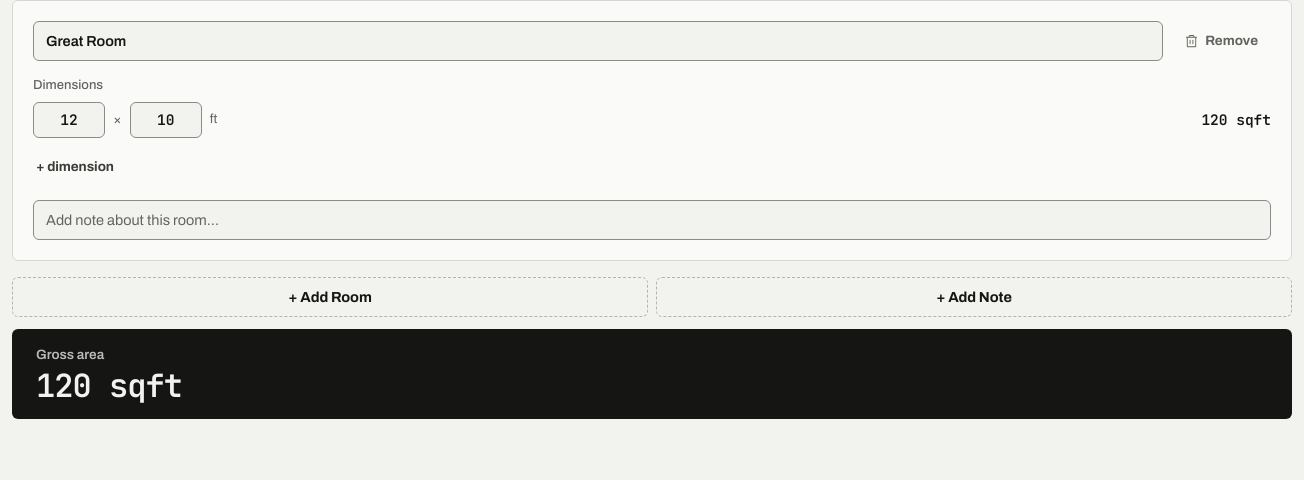
Test: RoomSection › adds a dimension box and sums it into the room total
// Add a second box.
Click the button "+ dimension".
click(75, 167)  # box [23,150,127,184]
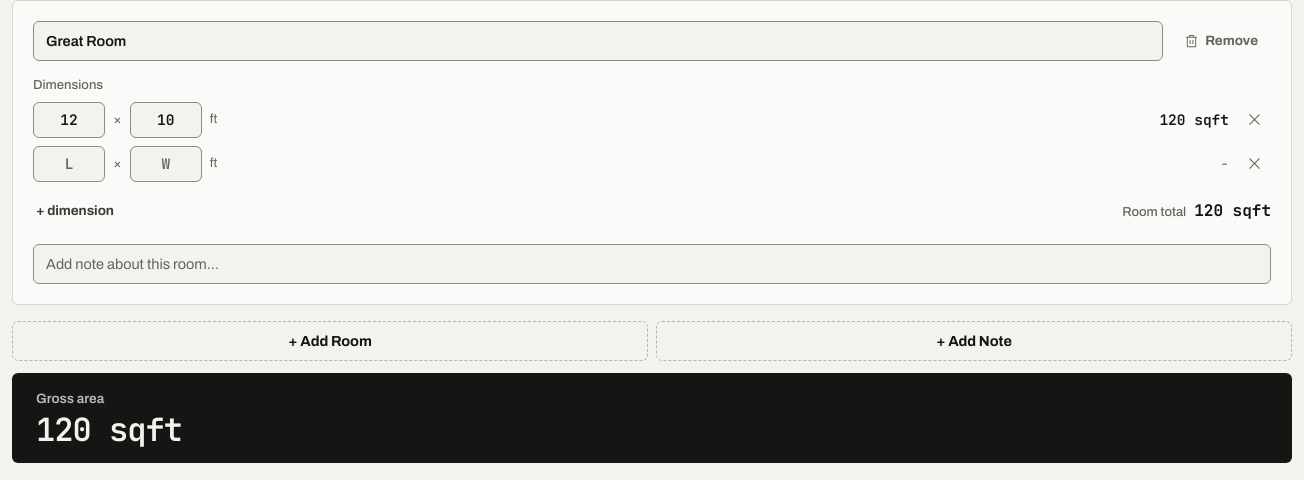
Type "4" into the field with placeholder "L".
click(69, 164); type("4")  # box [33,146,105,182]
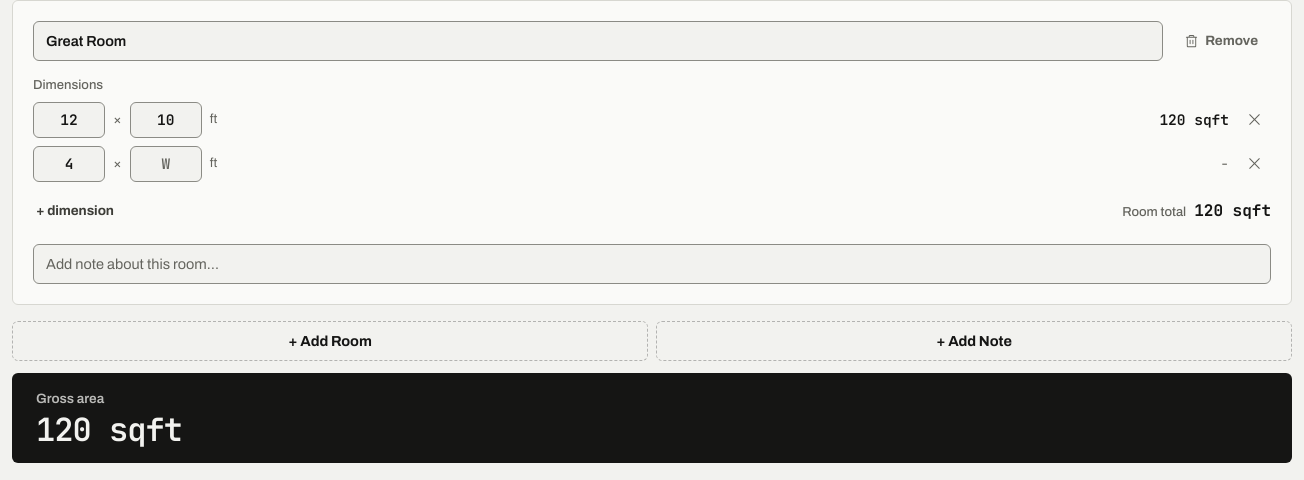
Type "3" into the field with placeholder "W".
click(166, 164); type("3")  # box [130,146,202,182]
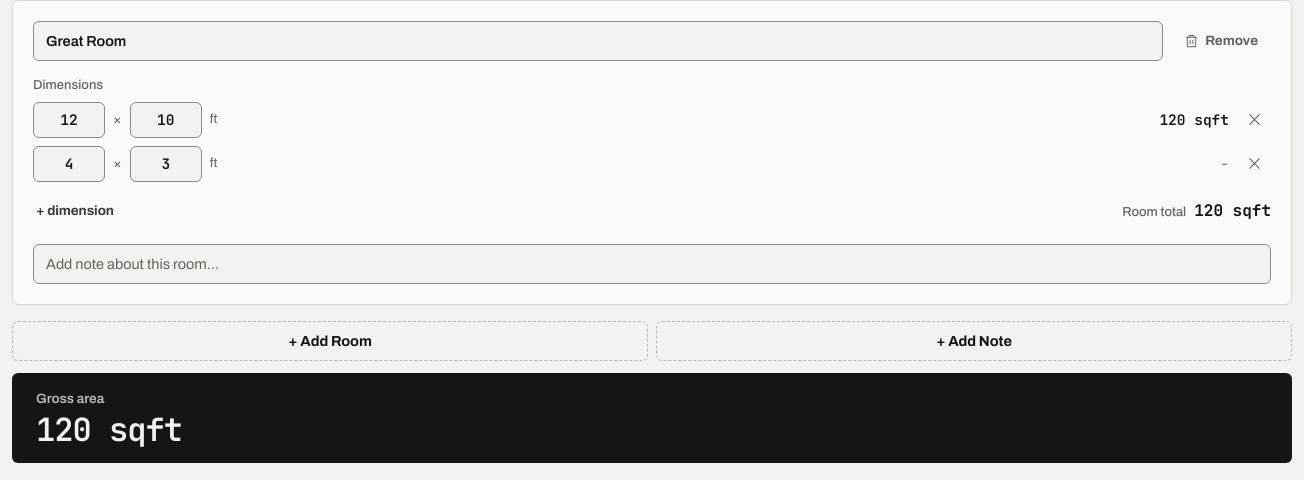
Leave the 5th field with placeholder "W", box [130,146,202,182]
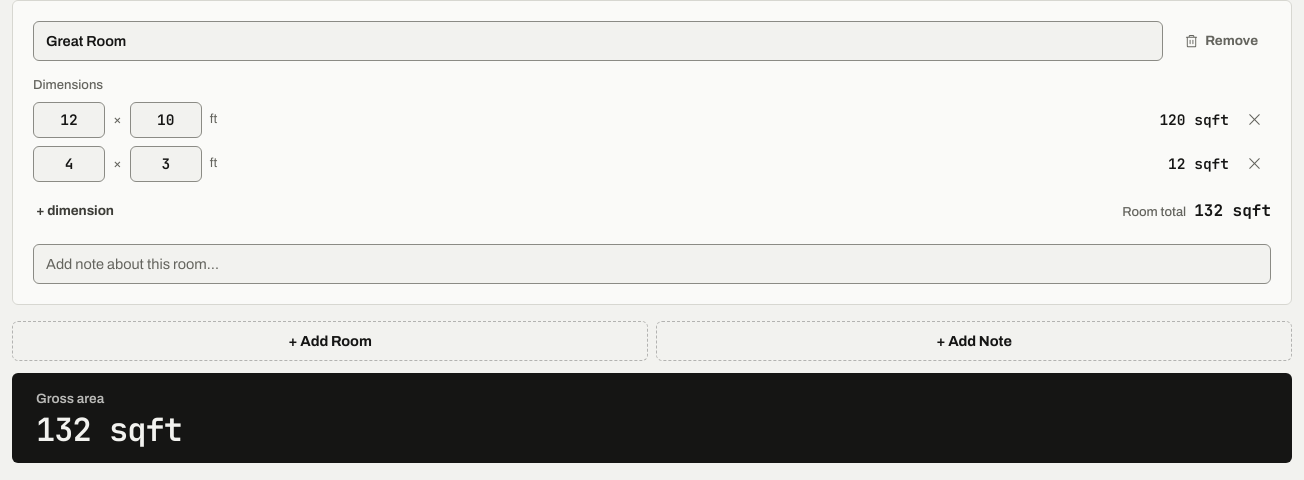
Result: the text "132 sqft" next to "Room total" is shown at [1194,200,1271,221]
